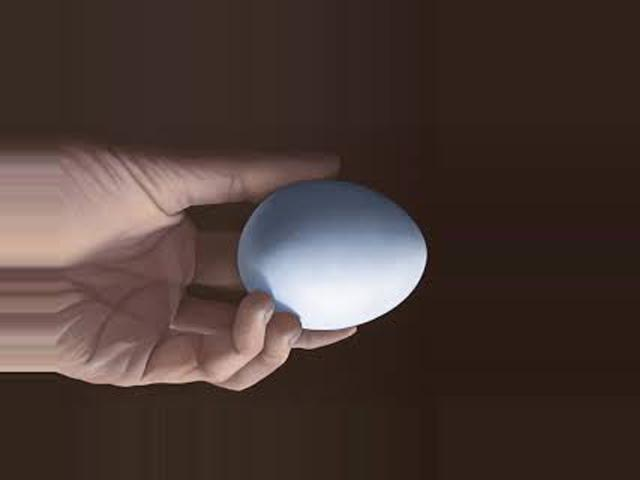egg: (238, 182, 428, 332)
